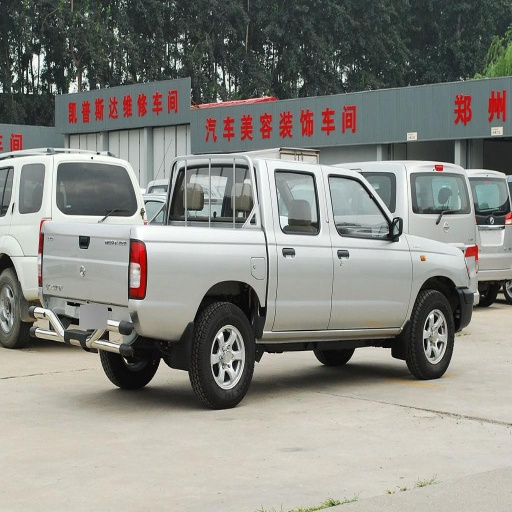back_right_door: (275, 167, 344, 326)
trunk: (44, 220, 273, 347)
